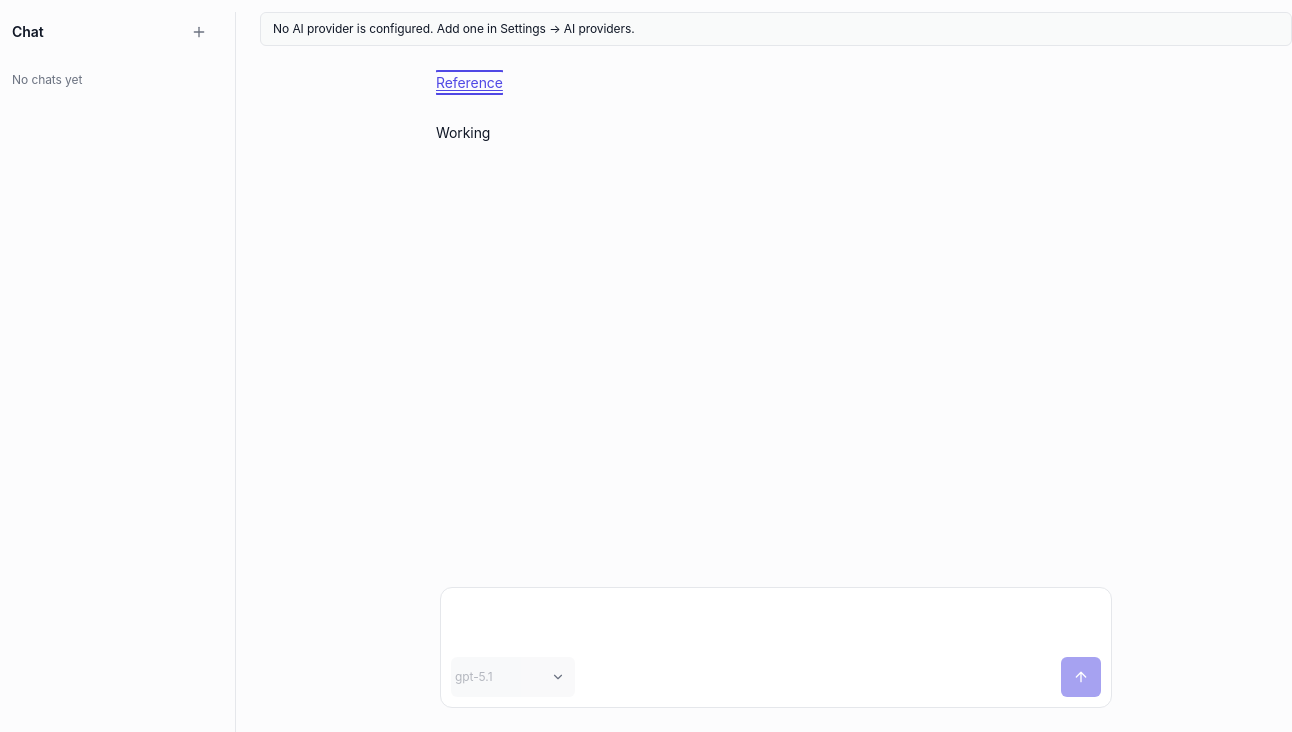
Scenario: ChatSurface › keeps settled markdown mounted while a later message streams
The image size is (1292, 732).
Type "preserve focus" into the text box named "Chat message" at (776, 620), box [441,588,1111,652]
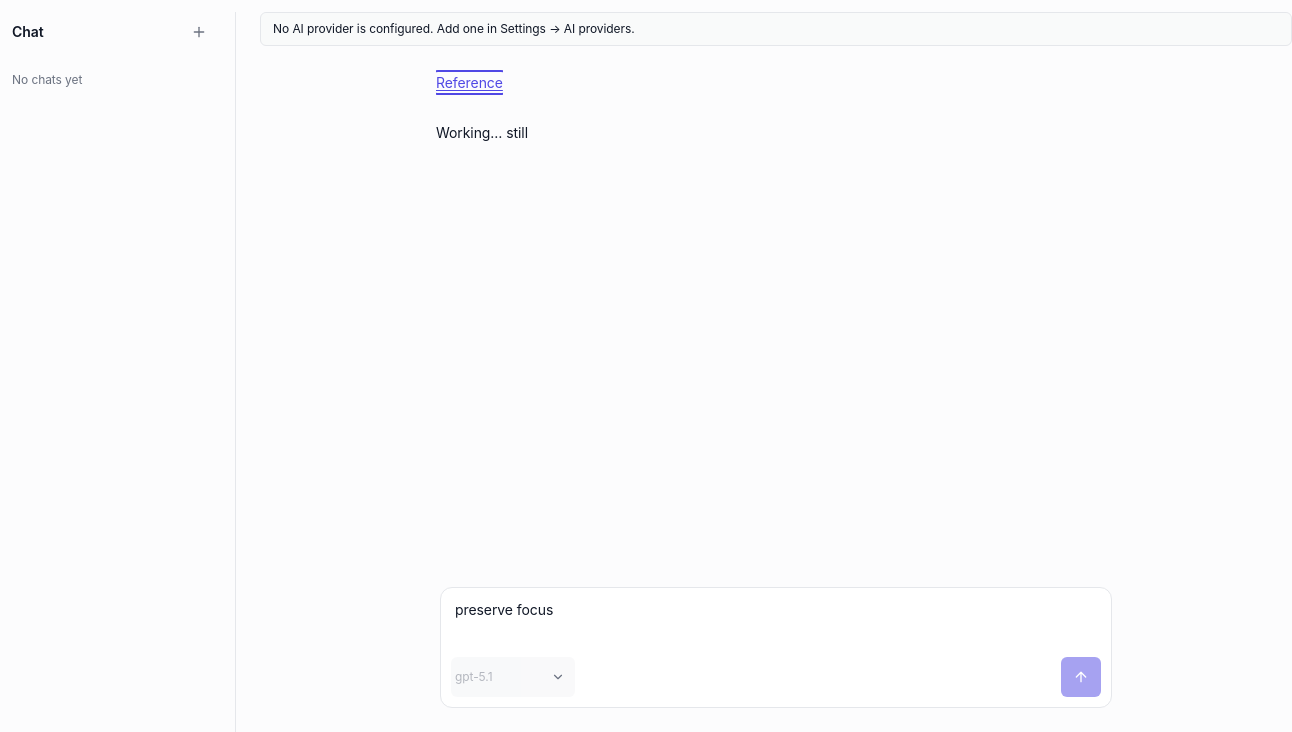
Expected: the text "Working… still" is shown, [436,121,528,145]
